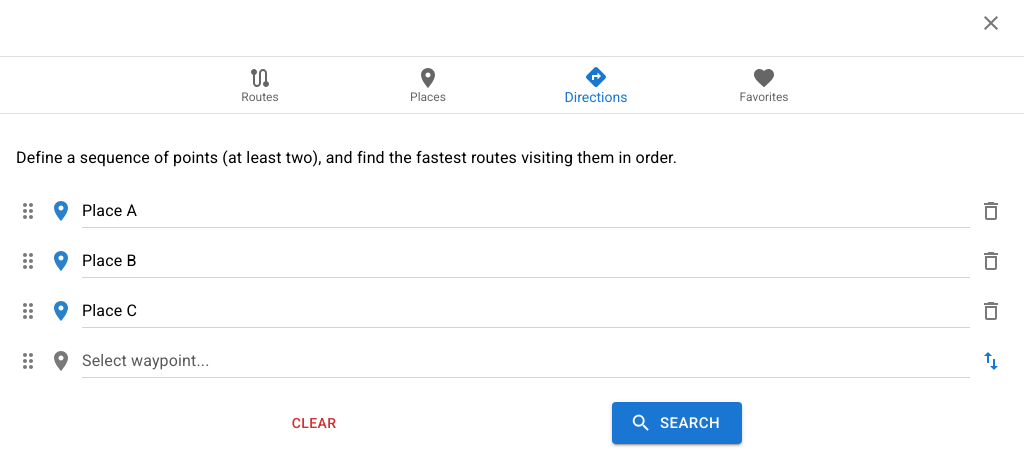
Scenario: <SearchDirecsPanel /> › reverse button › should reverse points in the sequence
expect the text "Place A" is shown: met, box [82,198,137,222]
expect the text "Place B" is shown: met, box [82,248,136,272]
What coordinates should you click on to do the following:
click the button named "Reverse"
I would click on:
 (991, 361)
Its box is [974,344,1008,378].
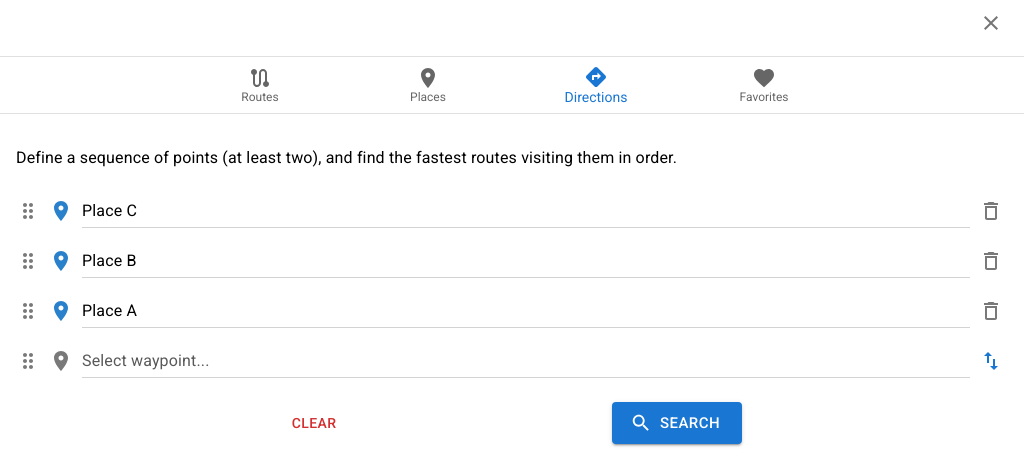
expect the text "Place B" is shown: met, box [82,248,136,272]
expect the text "Place C" is shown: met, box [82,198,137,222]
expect the text "Place A" is shown: met, box [82,298,137,322]
